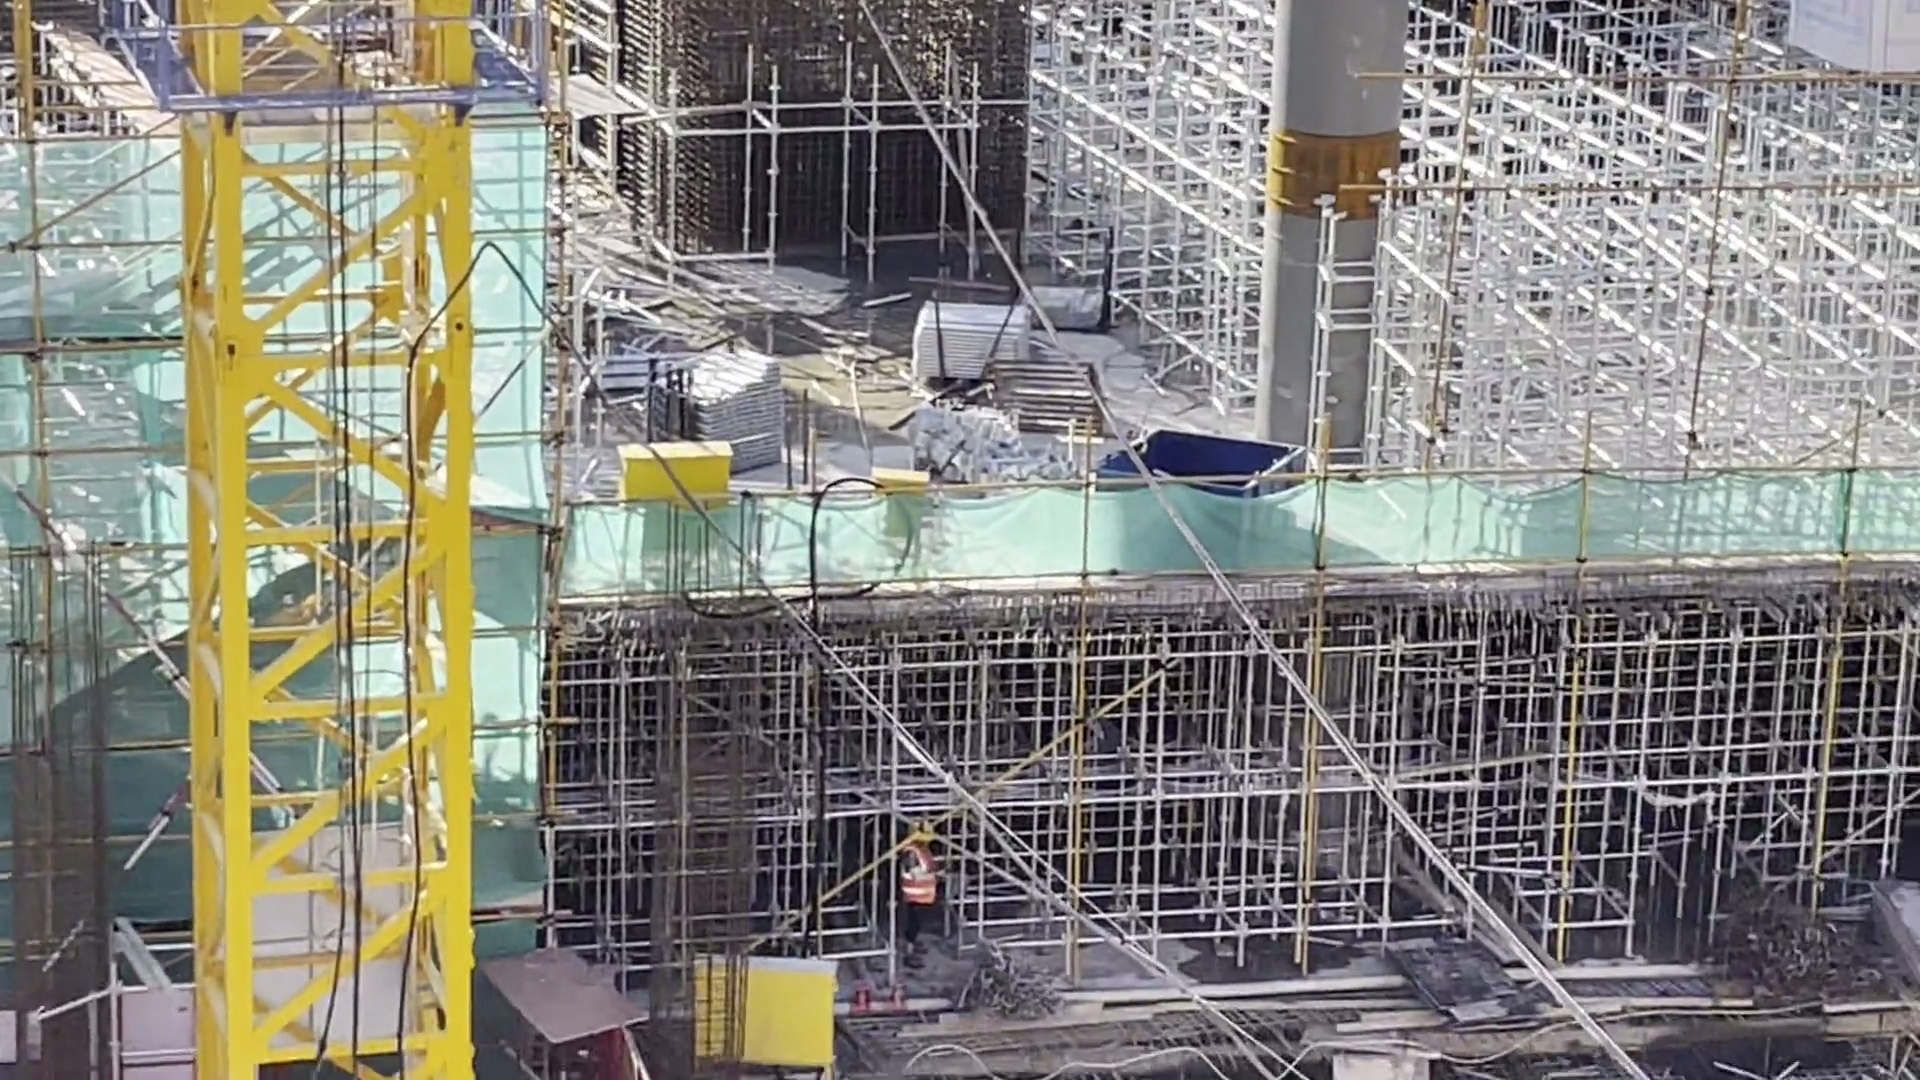board: (1866, 874, 1920, 960)
ebox: (716, 946, 863, 1044), (658, 471, 738, 532), (856, 506, 903, 547)
helmet: (916, 812, 933, 842)
hopper: (1103, 424, 1316, 561)
person: (889, 821, 946, 975)
scaffold: (631, 336, 779, 464), (916, 306, 1041, 406)
vest: (899, 844, 938, 912)
